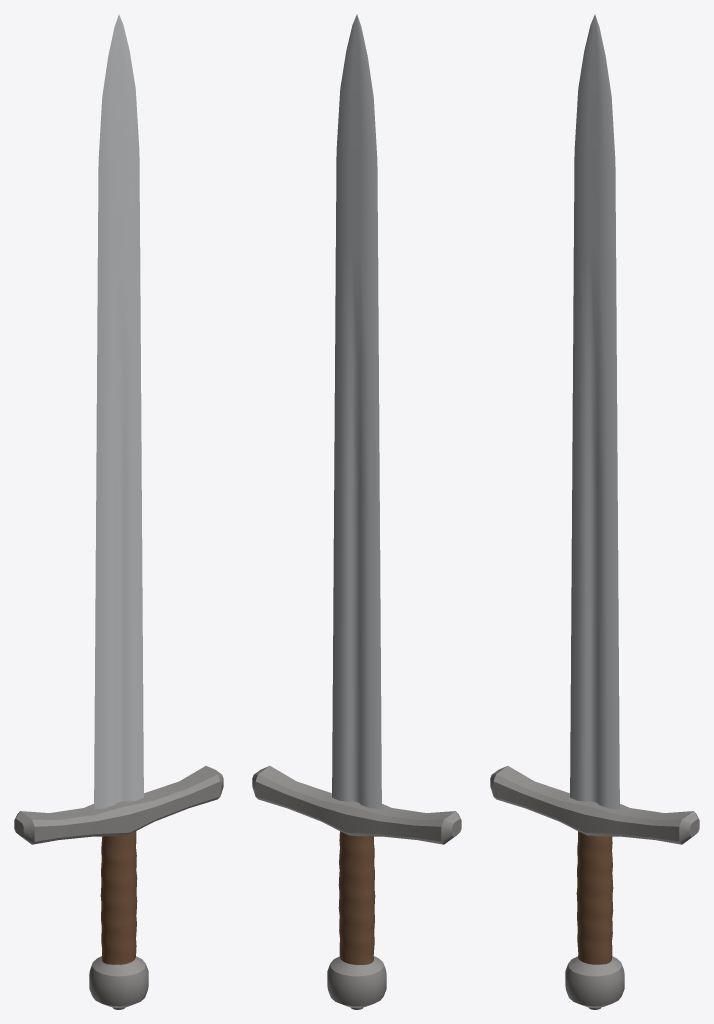
File: equipment.sword.arming.default.gltf
3 renders of one model, left to right at view 1: azimuth 30°, elevation 25°; view 2: azimuth 150°, elevation 25°; view 3: azimuth 330°, elevation 25°, orthographic.
Visible parts, largest first — view 1: sword.arming; view 2: sword.arming; view 3: sword.arming.
Boxes of the visible parts, x1,y1,x2,y2 form: sword.arming: [14, 14, 223, 1009]; sword.arming: [252, 14, 461, 1009]; sword.arming: [490, 14, 699, 1009].
Bounding box in the file's own units: 0.2 × 0.9503 × 0.052.
